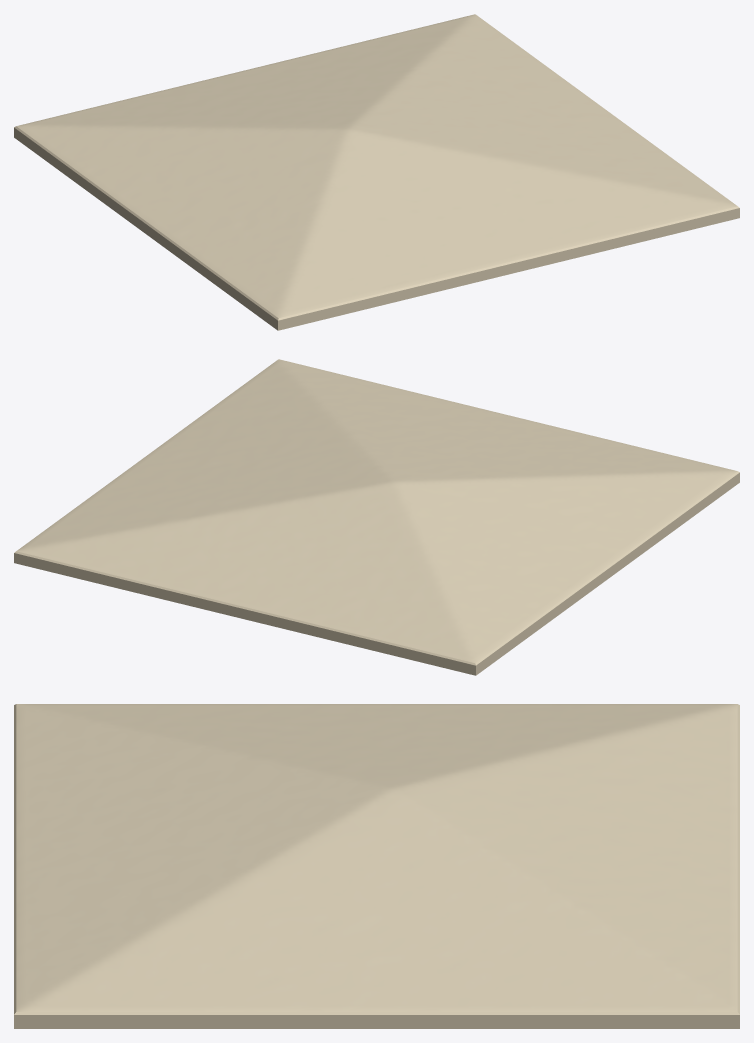
File: mahsulot.glb
3 views of the same model, one above another, from view 1: azimuth 30°, elevation 25°; view 2: azimuth 150°, elevation 25°; view 3: azimuth 270°, elevation 25° (orthographic). The views are drawn at different scales.
Visible parts, largest first — view 1: mahsulot; view 2: mahsulot; view 3: mahsulot.
Part boxes in pixels (x1,y1,x2,y2): mahsulot: [14, 14, 739, 330]; mahsulot: [14, 359, 739, 675]; mahsulot: [14, 704, 739, 1028].
Size of the model in its own units: 0.5 by 0.0514 by 0.495.
